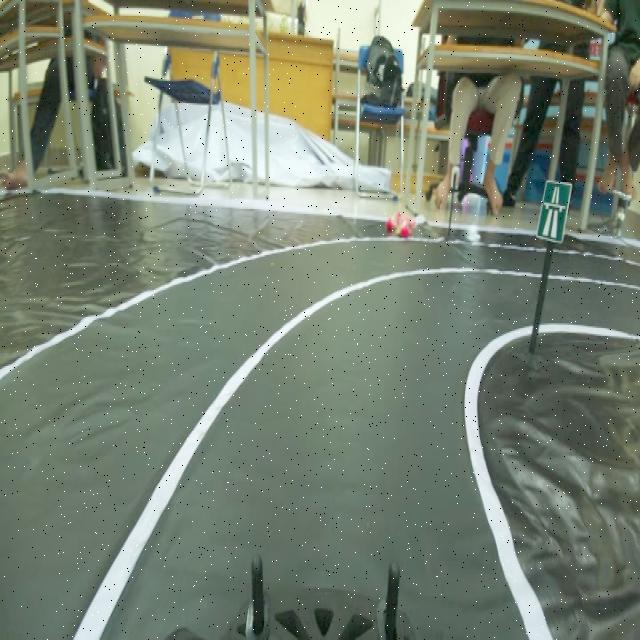highway_entry: (538, 166, 576, 247)
